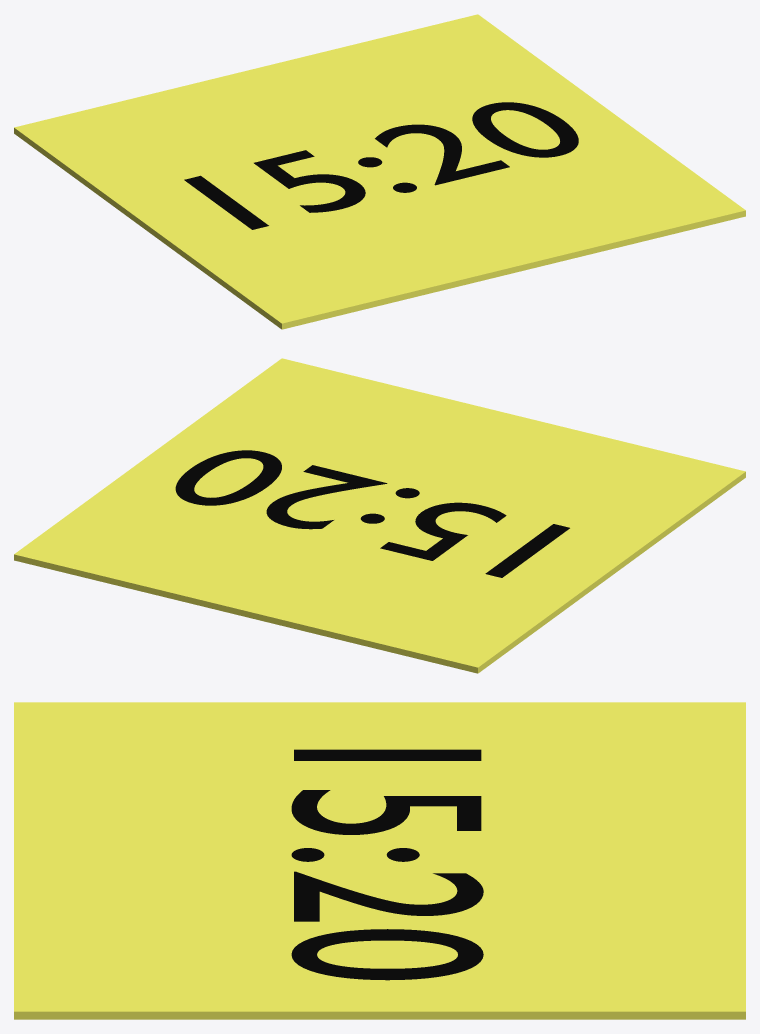
Rendered from new_time_note.fbx.
The picture shows the model from 3 angles, top to bottom: view 1: azimuth 30°, elevation 25°; view 2: azimuth 150°, elevation 25°; view 3: azimuth 270°, elevation 25°; orthographic projection. The views are drawn at different scales.
Parts seen in each view (by area): view 1: Куб; view 2: Куб; view 3: Куб.
Part boxes in pixels (box(x1,y1,x2,y2)): Куб: box(14, 14, 745, 329); Куб: box(14, 358, 745, 673); Куб: box(14, 702, 745, 1019).
Bounding box in the file's own units: 8 × 0.1129 × 8.
